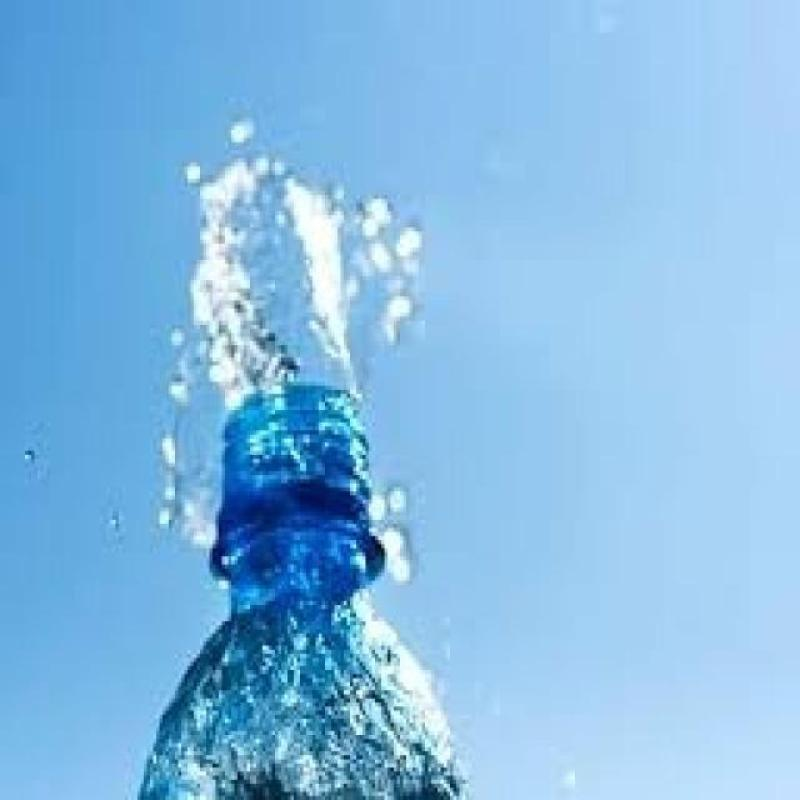botella: (136, 381, 465, 800)
